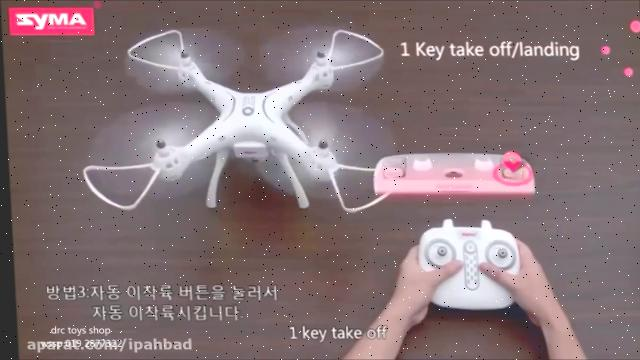drone: (71, 25, 401, 213)
